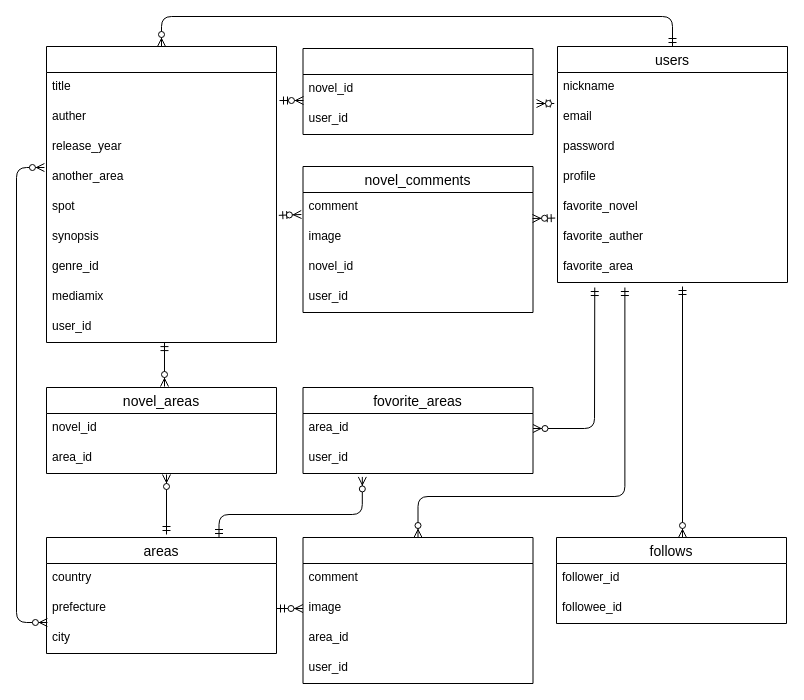
The diagram is 804 pixels wide and 700 high, and some of its shapes have lost their labels. Each missing label, with the box of its shape:
area_comments: (302, 536, 533, 684)
fovorite_novels: (302, 48, 533, 134)
novels: (46, 46, 276, 342)
